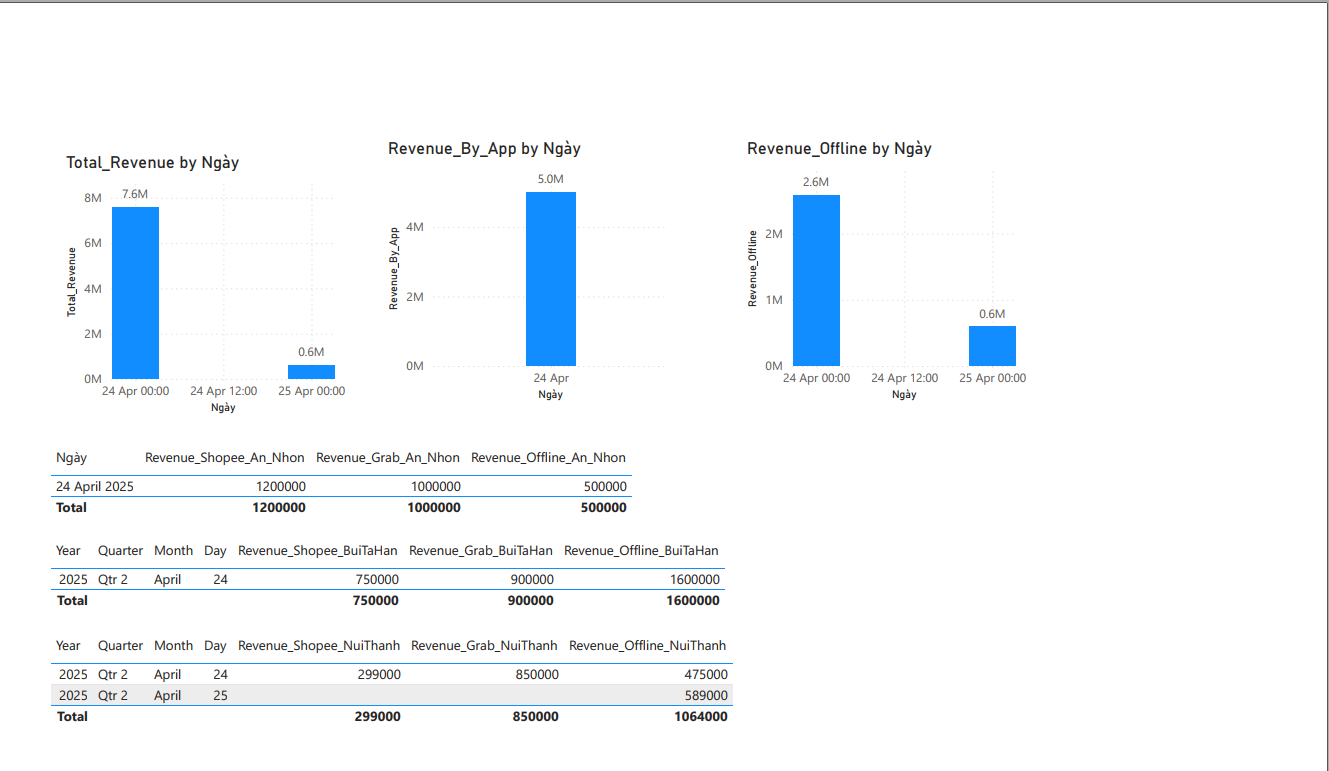

The page's visual inventory and layout, read from the dashboard file:
{"tool":"powerbi","page":{"name":"Page 1","canvas":[1280,720],"ordinal":0},"visuals":[{"type":"clusteredColumnChart","fields":{"Y":["Clean_StoreRevenue.Total_Revenue"],"Category":["Clean_StoreRevenue.Ngày"]},"box":[38.4,124.9,290.9,267.6],"z":0},{"type":"clusteredColumnChart","fields":{"Y":["Clean_StoreRevenue.Revenue_By_App"],"Category":["Clean_StoreRevenue.Ngày"]},"box":[359.5,111.1,290.9,267.6],"z":1000},{"type":"clusteredColumnChart","fields":{"Y":["Clean_StoreRevenue.Revenue_Offline"],"Category":["Clean_StoreRevenue.Ngày"]},"box":[719.3,111.1,290.9,267.6],"z":2000},{"type":"tableEx","fields":{"Values":["Clean_StoreRevenue.Ngày","Clean_StoreRevenue.Revenue_Shopee_An_Nhon","Clean_StoreRevenue.Revenue_Grab_An_Nhon","Clean_StoreRevenue.Revenue_Offline_An_Nhon"]},"box":[21.7,415,736.7,93.3],"z":2001},{"type":"tableEx","fields":{"Values":["Clean_StoreRevenue.Ngày.Variation.Date Hierarchy.Year","Clean_StoreRevenue.Ngày.Variation.Date Hierarchy.Quarter","Clean_StoreRevenue.Ngày.Variation.Date Hierarchy.Month","Clean_StoreRevenue.Ngày.Variation.Date Hierarchy.Day","Clean_StoreRevenue.Revenue_Shopee_BuiTaHan","Clean_StoreRevenue.Revenue_Grab_BuiTaHan","Clean_StoreRevenue.Revenue_Offline_BuiTaHan"]},"box":[21.7,508.3,698.3,95],"z":2002},{"type":"tableEx","fields":{"Values":["Clean_StoreRevenue.Ngày.Variation.Date Hierarchy.Year","Clean_StoreRevenue.Ngày.Variation.Date Hierarchy.Quarter","Clean_StoreRevenue.Ngày.Variation.Date Hierarchy.Month","Clean_StoreRevenue.Ngày.Variation.Date Hierarchy.Day","Clean_StoreRevenue.Revenue_Shopee_NuiThanh","Clean_StoreRevenue.Revenue_Grab_NuiThanh","Clean_StoreRevenue.Revenue_Offline_NuiThanh"]},"box":[21.7,603.3,736.7,110],"z":2003}]}

Visuals, with their boxes on the page's 1280x720 design canvas (x1, y1, x2, y2). These are canvas units, not pixel positions in the 1329x771 screenshot, which may show the page scaled, cropped or inside an application window:
clusteredColumnChart - Clean_StoreRevenue.Total_Revenue x Clean_StoreRevenue.Ngày: (38,125,329,392)
clusteredColumnChart - Clean_StoreRevenue.Revenue_By_App x Clean_StoreRevenue.Ngày: (360,111,650,379)
clusteredColumnChart - Clean_StoreRevenue.Revenue_Offline x Clean_StoreRevenue.Ngày: (719,111,1010,379)
tableEx - Clean_StoreRevenue.Ngày x Clean_StoreRevenue.Revenue_Shopee_An_Nhon: (22,415,758,508)
tableEx - Clean_StoreRevenue.Ngày.Variation.Date Hierarchy.Year x Clean_StoreRevenue.Ngày.Variation.Date Hierarchy.Quarter: (22,508,720,603)
tableEx - Clean_StoreRevenue.Ngày.Variation.Date Hierarchy.Year x Clean_StoreRevenue.Ngày.Variation.Date Hierarchy.Quarter: (22,603,758,713)
